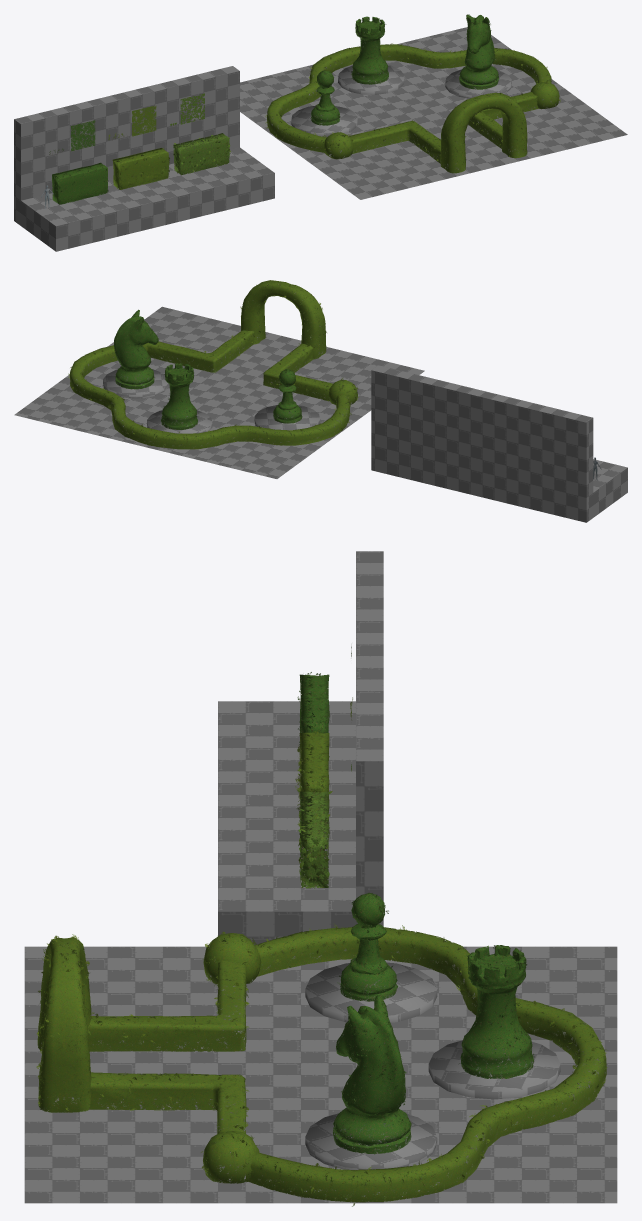
File: hedge.glb
3 views of the same model, one above another, from view 1: azimuth 30°, elevation 25°; view 2: azimuth 150°, elevation 25°; view 3: azimuth 270°, elevation 25° (orthographic). The views are drawn at different scales.
Visible parts, largest first — view 1: Usecase Park Example, Ground, TileExample Medium, TileExample Large, TileExample Small, Tile Small, Tile Medium, Tile Large; view 2: Usecase Park Example, Ground; view 3: Usecase Park Example, Ground, TileExample Large, TileExample Medium, TileExample Small.
Part boxes in pixels (<box>): Usecase Park Example: <box>240,14,627,199</box>; Ground: <box>14,66,274,251</box>; TileExample Medium: <box>112,148,169,189</box>; TileExample Large: <box>173,133,230,175</box>; TileExample Small: <box>52,162,108,204</box>; Tile Small: <box>71,120,95,151</box>; Tile Medium: <box>132,105,156,136</box>; Tile Large: <box>180,93,204,124</box>; Usecase Park Example: <box>14,280,424,478</box>; Ground: <box>371,365,627,522</box>; Usecase Park Example: <box>24,892,617,1206</box>; Ground: <box>218,551,383,944</box>; TileExample Large: <box>298,791,332,888</box>; TileExample Medium: <box>295,730,329,828</box>; TileExample Small: <box>297,672,329,757</box>.
Size of the model in its own units: 43.04 by 8 by 21.45.
8 materials, 8 textured.
